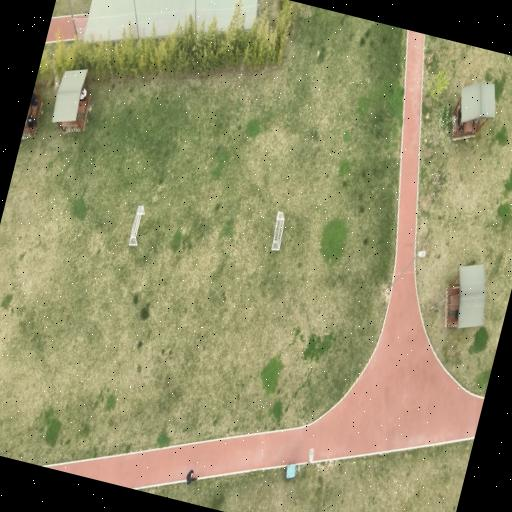person: (185, 470, 195, 485), (27, 113, 34, 127), (79, 87, 86, 100), (30, 93, 37, 106), (456, 107, 460, 127)
